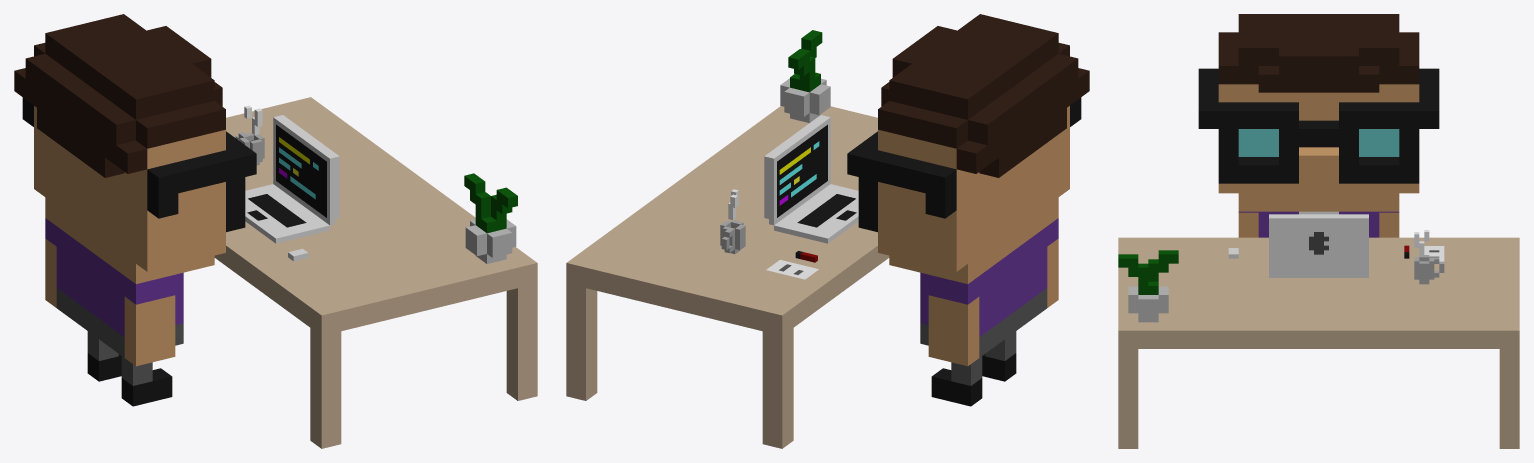
File: dog.glb
3 views of the same model, side by side, from view 1: azimuth 30°, elevation 25°; view 2: azimuth 150°, elevation 25°; view 3: azimuth 270°, elevation 25° (orthographic). The views are drawn at different scales.
Visible parts, largest first — view 1: CharAndTable; view 2: CharAndTable; view 3: CharAndTable.
Boxes of the visible parts, x1,y1,x2,y2 form: CharAndTable: (14,14,537,448); CharAndTable: (566,14,1089,448); CharAndTable: (1118,14,1519,448).
Bounding box in the file's own units: 7.2 × 6.4 × 8.
1 material, 1 textured.
